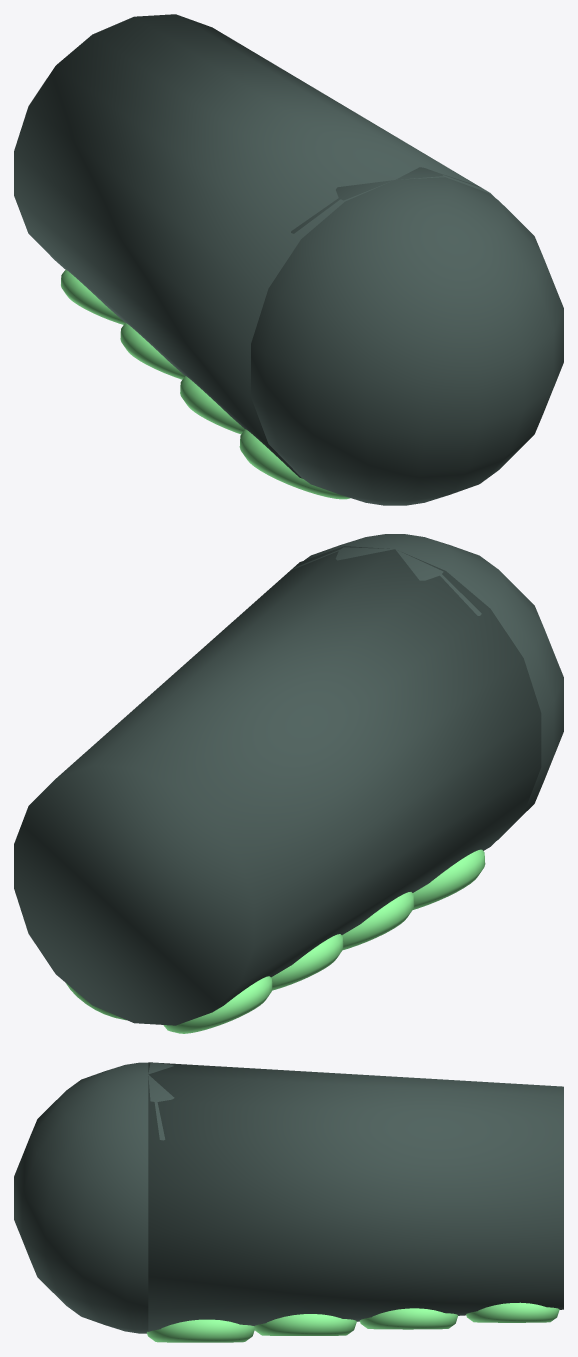
File: seg1.glb
3 renders of one model, top to bottom at view 1: azimuth 30°, elevation 25°; view 2: azimuth 150°, elevation 25°; view 3: azimuth 270°, elevation 25°, orthographic. The views are drawn at different scales.
Parts seen in each view (by area): view 1: tentacle, sucker; view 2: tentacle, sucker; view 3: tentacle, sucker.
Boxes of the visible parts, x1,y1,x2,y2 form: tentacle: (14, 14, 563, 505); sucker: (61, 270, 350, 499); tentacle: (14, 534, 563, 1025); sucker: (66, 849, 485, 1033); tentacle: (14, 1062, 563, 1333); sucker: (147, 1302, 559, 1342).
Size of the model in its own units: 0.5496 by 0.585 by 1.12.
